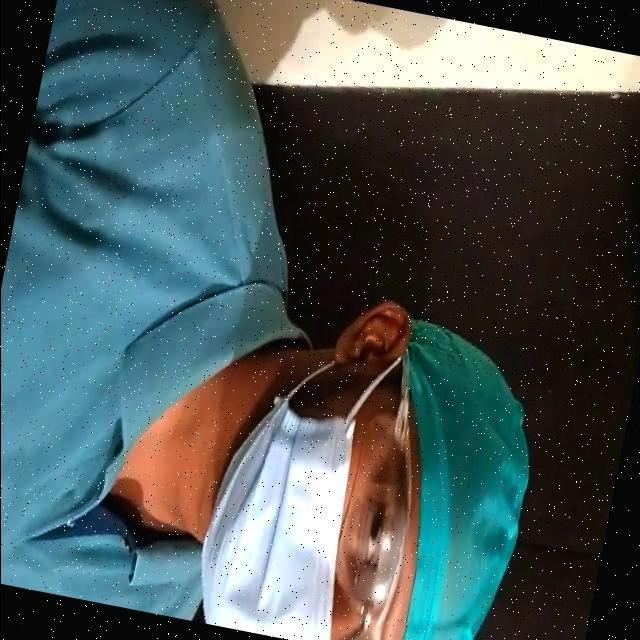gloves: (363, 324, 538, 640)
mask: (209, 411, 345, 640)
